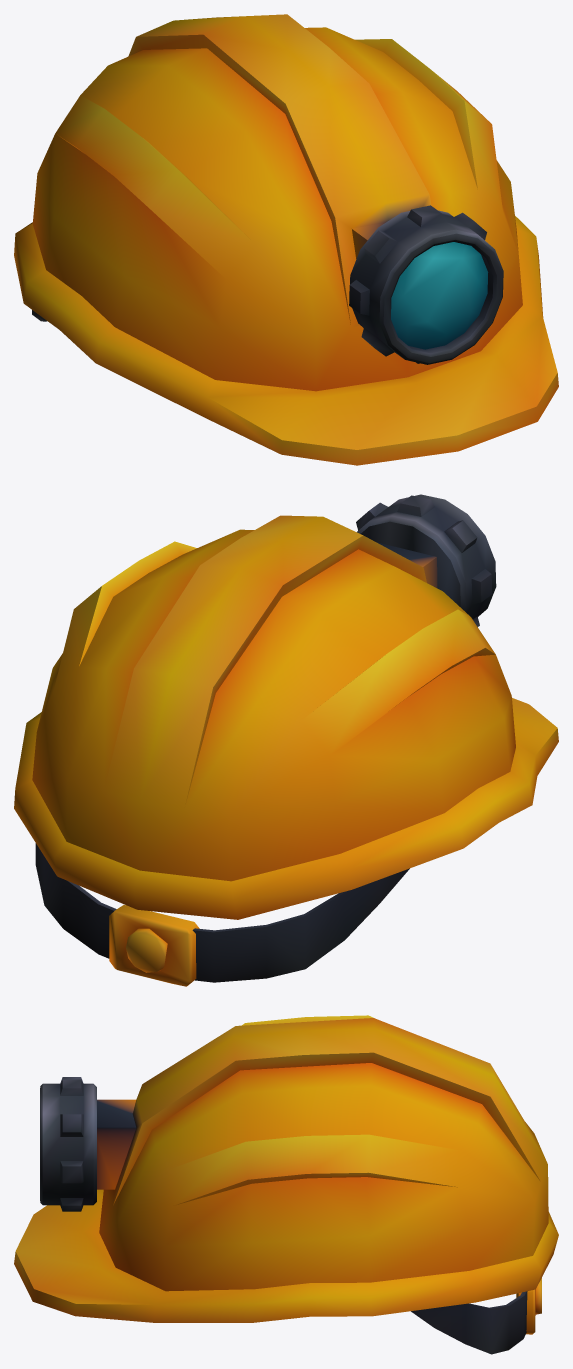
The model's file is hat-hard.glb.
3 renders of one model, top to bottom at view 1: azimuth 30°, elevation 25°; view 2: azimuth 150°, elevation 25°; view 3: azimuth 270°, elevation 25°, orthographic. The views are drawn at different scales.
Parts seen in each view (by area): view 1: Object_10; view 2: Object_10; view 3: Object_10.
Part boxes in pixels (<box>): Object_10: <box>14,14,558,465</box>; Object_10: <box>14,494,558,986</box>; Object_10: <box>14,1015,558,1354</box>.
Size of the model in its own units: 0.7973 by 0.5927 by 1.
